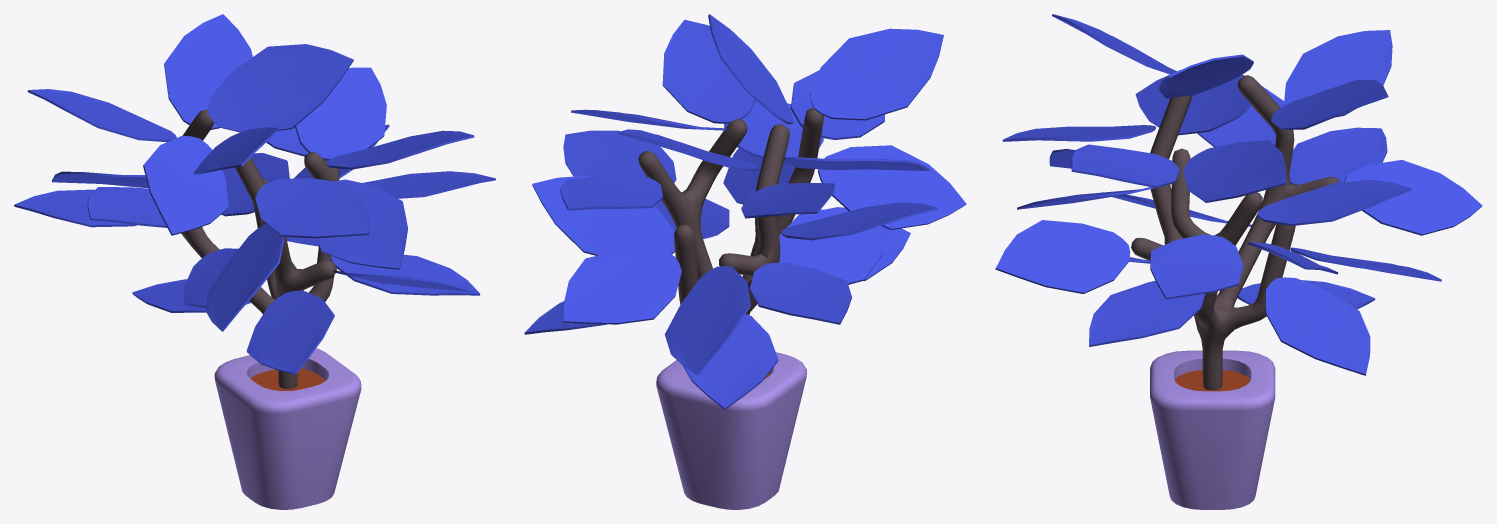
The model's file is Plant_Pot.fbx.
The picture shows the model from 3 angles, left to right: view 1: azimuth 30°, elevation 25°; view 2: azimuth 150°, elevation 25°; view 3: azimuth 270°, elevation 25°; orthographic projection. The views are drawn at different scales.
Visible parts, largest first — view 1: Plant Pot; view 2: Plant Pot; view 3: Plant Pot.
Boxes of the visible parts, box(x1,y1,x2,y2) form: Plant Pot: box(14, 14, 495, 509); Plant Pot: box(524, 14, 966, 509); Plant Pot: box(995, 14, 1482, 509).
Bounding box in the file's own units: 103 × 114 × 113.
